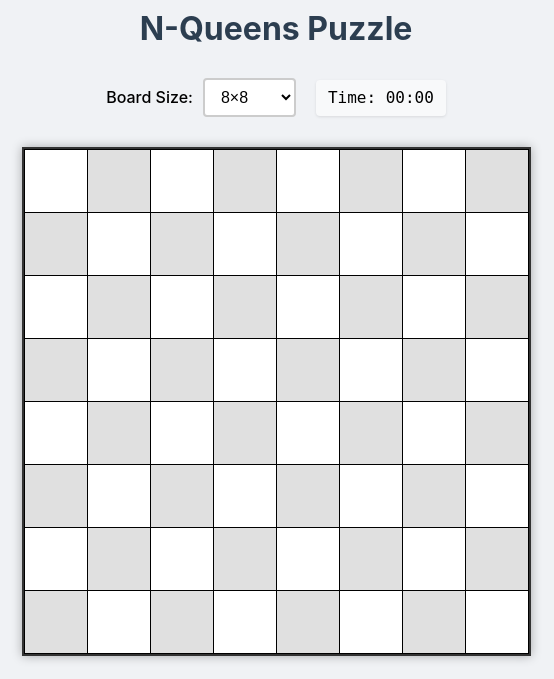
it: N-Queens Puzzle App › allows changing board size
// Change to 4x4 board
Select "4×4" in the dropdown at (249, 98), box [203,78,296,117]
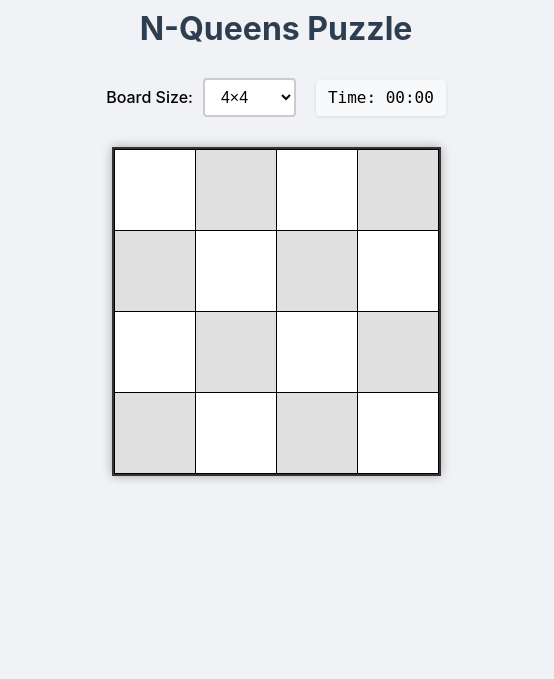
Check: the number of cells is 16
